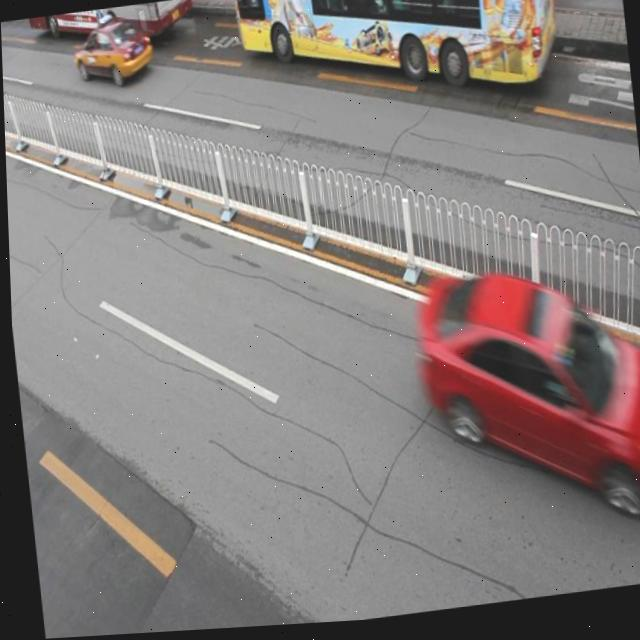car: (412, 255, 640, 534), (71, 12, 156, 89)
van: (229, 0, 566, 123), (23, 0, 193, 53)
